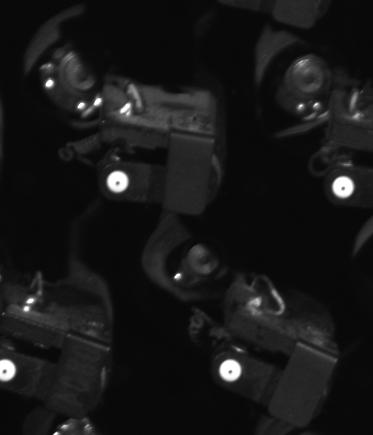fiber: (102, 170, 137, 199), (215, 358, 248, 386), (330, 173, 357, 201), (1, 357, 20, 385)
